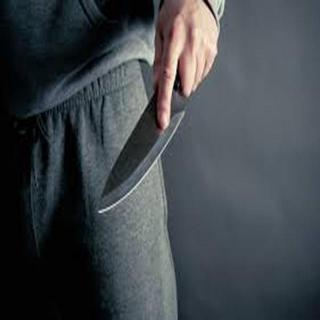knife: (94, 29, 208, 219)
